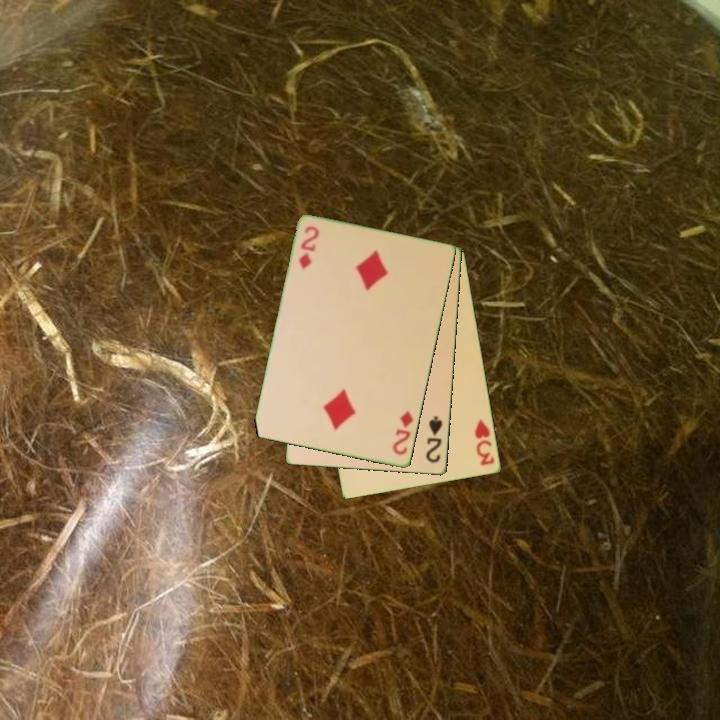2d: (389, 408, 416, 458), (295, 223, 322, 273)
2s: (422, 413, 445, 466)
3h: (471, 416, 498, 469)
